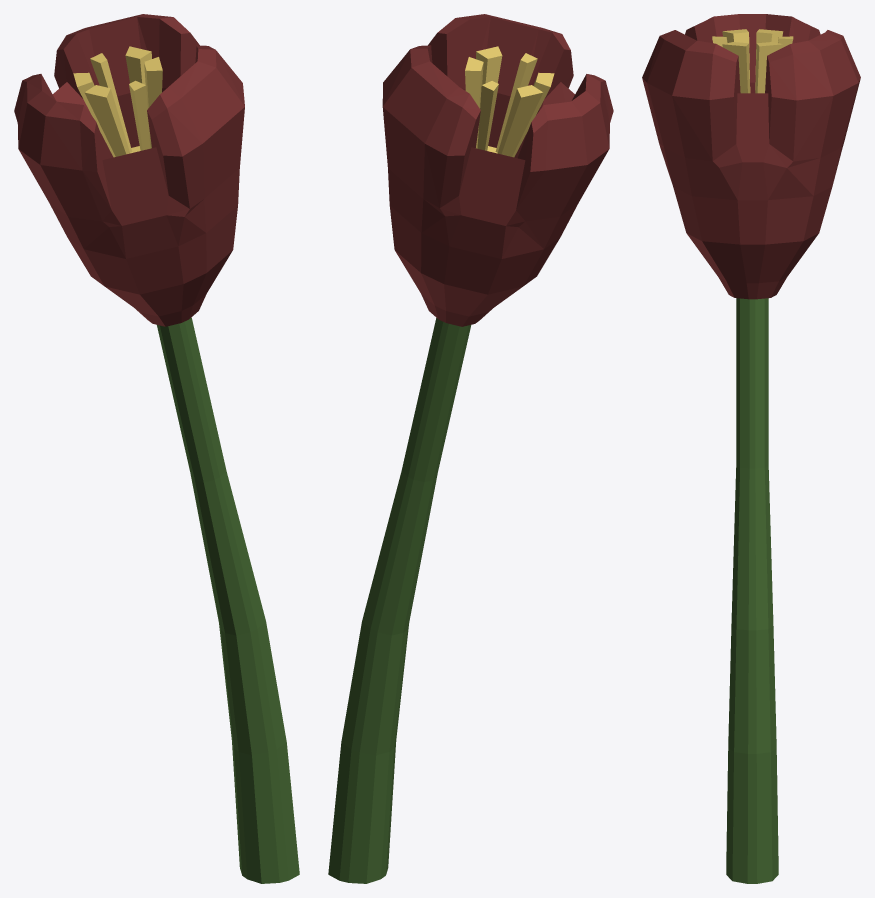
Rendered from Flower1.3.fbx.
The picture shows the model from 3 angles, left to right: view 1: azimuth 30°, elevation 25°; view 2: azimuth 150°, elevation 25°; view 3: azimuth 270°, elevation 25°; orthographic projection. The views are drawn at different scales.
Parts seen in each view (by area): view 1: Flower1.2; view 2: Flower1.2; view 3: Flower1.2.
Part boxes in pixels (bbox=[...]): Flower1.2: bbox=[14, 14, 299, 883]; Flower1.2: bbox=[328, 14, 613, 883]; Flower1.2: bbox=[642, 14, 860, 883].
Bounding box in the file's own units: 50.72 × 157 × 39.48.
